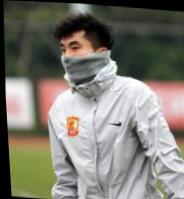WRONG: (59, 36, 97, 85)
